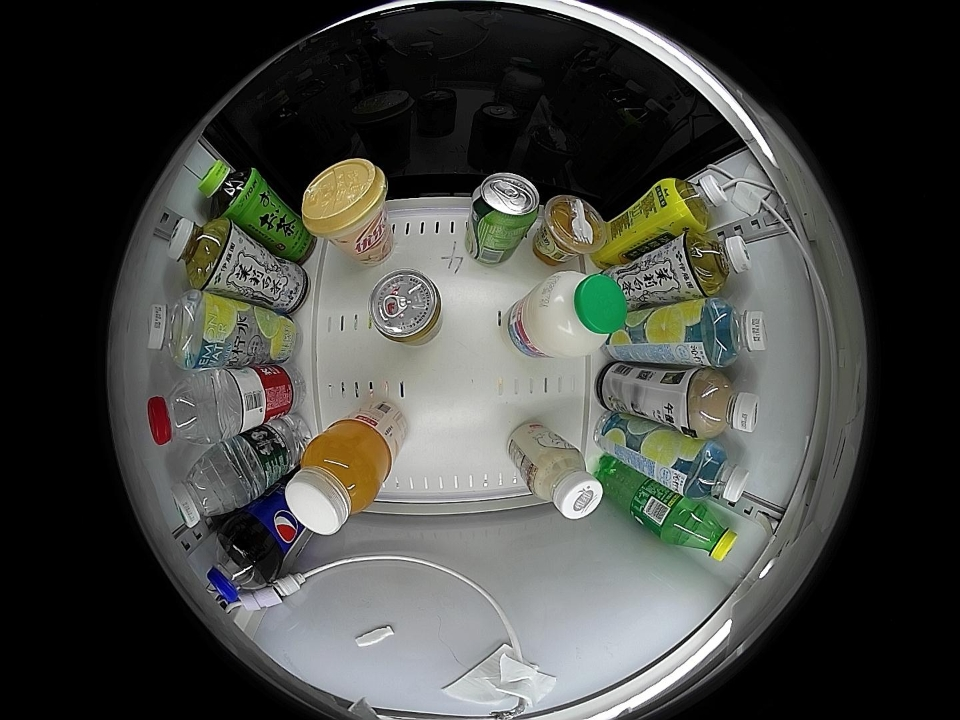baicha: (167, 217, 232, 288), (684, 231, 753, 295)
baishikele-2: (205, 528, 272, 603)
bingtangxueli: (659, 170, 728, 234)
hongniu2: (369, 269, 443, 346)
liziyuan: (526, 271, 627, 360)
nongfushanquan: (147, 374, 218, 447)
qinningshui: (147, 291, 212, 369), (697, 298, 769, 368), (682, 441, 750, 505)
quchenshixiangcao: (471, 172, 541, 232)
weic: (285, 420, 392, 535)
weiweidounai: (528, 445, 603, 519)
wuhounaicha: (688, 370, 761, 437)
xianguolao: (538, 194, 607, 261)
xuebi-b: (670, 500, 739, 563)
yibao: (170, 454, 241, 528)
yitengyuan: (197, 159, 261, 220)
youlemei: (301, 159, 388, 242)
